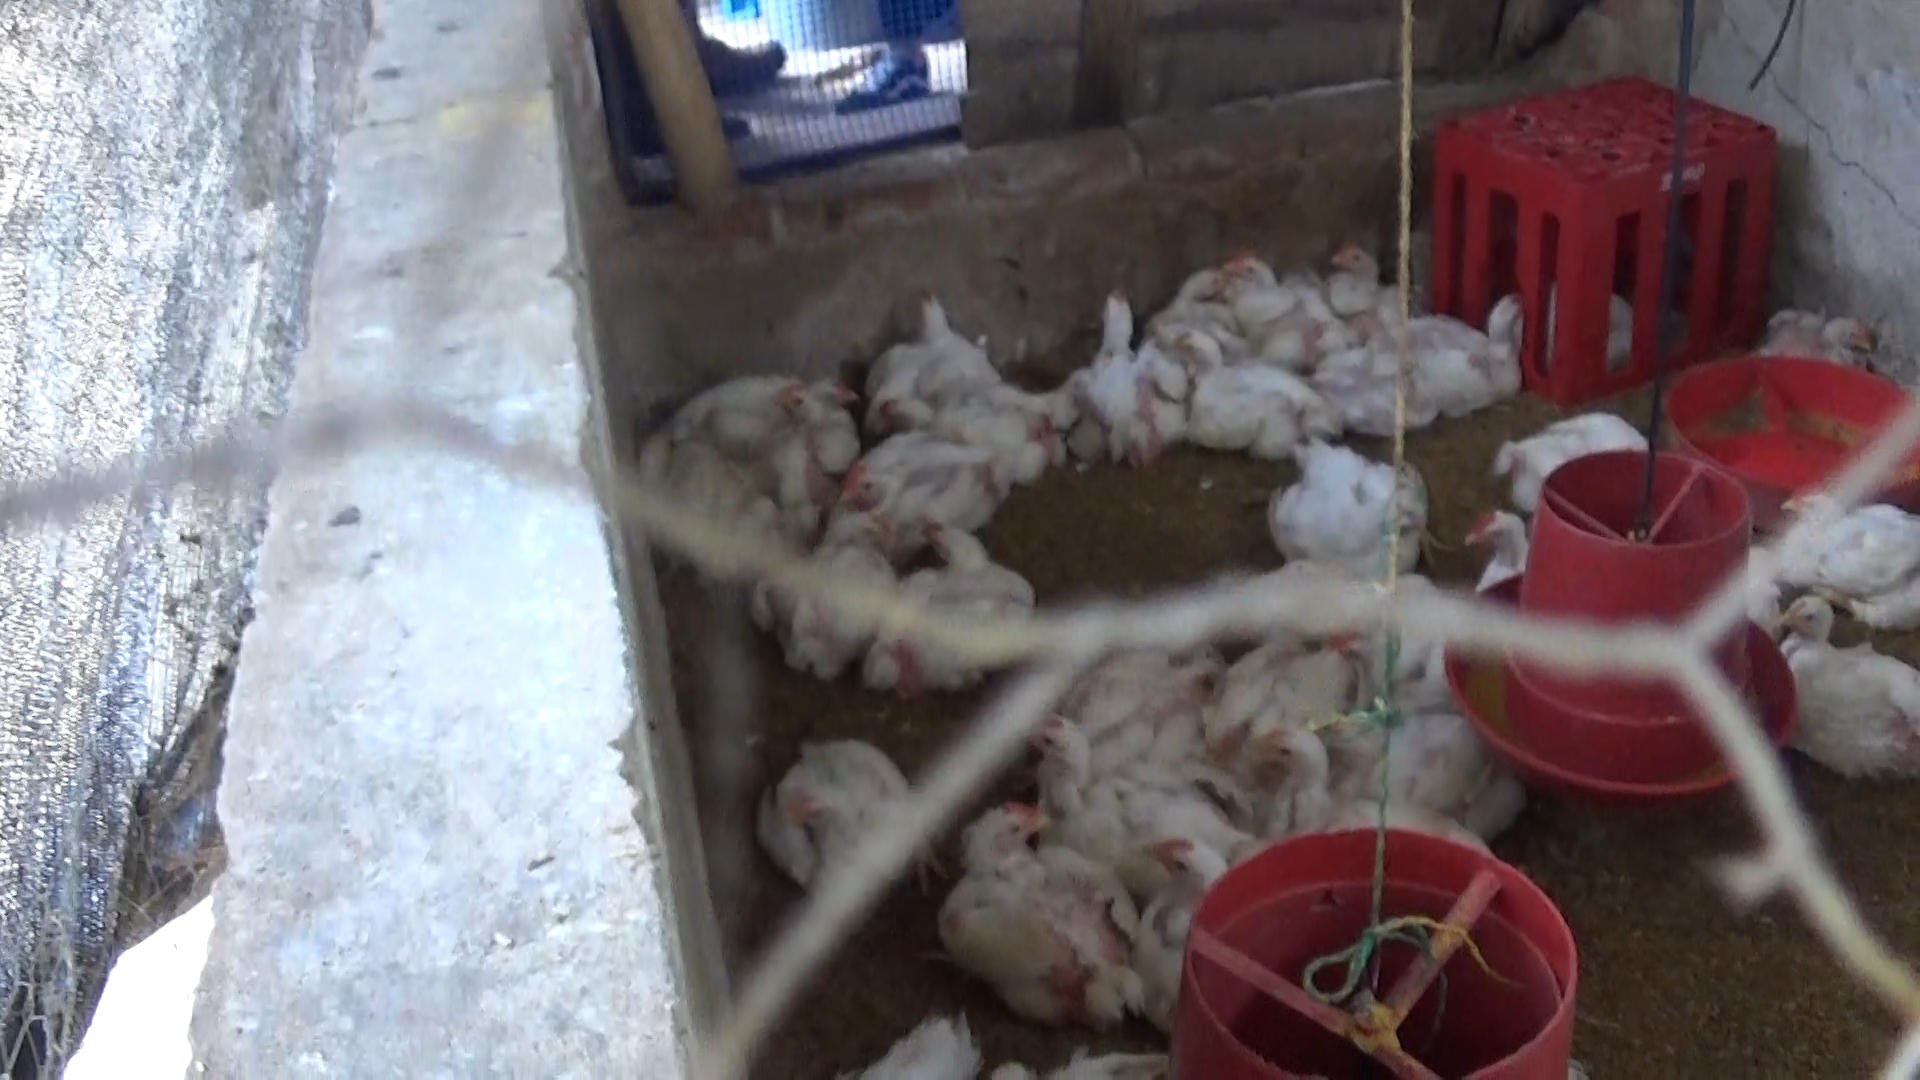Pollos: (938, 789, 1114, 1002), (1749, 576, 1920, 785), (868, 513, 1051, 698), (748, 703, 916, 880), (1141, 297, 1328, 454), (659, 369, 856, 485), (836, 433, 1018, 549), (1371, 301, 1532, 417), (864, 291, 1017, 404), (1222, 240, 1354, 363), (1311, 216, 1437, 334), (1244, 703, 1336, 847), (1336, 626, 1461, 732), (1153, 816, 1259, 938), (1072, 281, 1171, 401), (1029, 688, 1120, 812), (1458, 492, 1540, 593)
